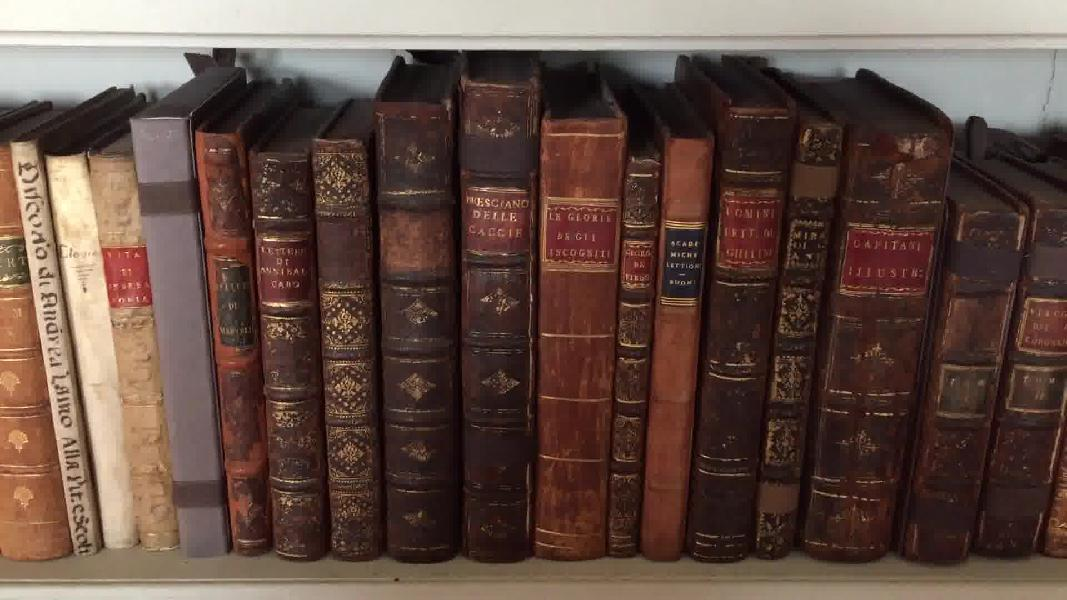Aa6-24: (6, 125, 101, 561)
Aa6-25: (44, 148, 142, 547)
Aa6-26: (82, 152, 182, 557)
Aa6-27: (132, 120, 233, 559)
Aa6-28: (186, 128, 275, 552)
Aa6-29: (251, 139, 329, 567)
Aa6-30: (306, 138, 385, 563)
Aa6-31: (374, 88, 459, 575)
Aa6-32: (442, 73, 538, 577)
Aa6-33: (535, 92, 620, 557)
Aa6-34: (615, 127, 666, 548)
Aa6-35: (642, 98, 698, 573)
Aa6-36: (683, 70, 779, 570)
Aa6-37: (762, 66, 836, 557)
Aa6-38: (797, 58, 939, 574)
Aa6-39_40: (913, 150, 1067, 563)
